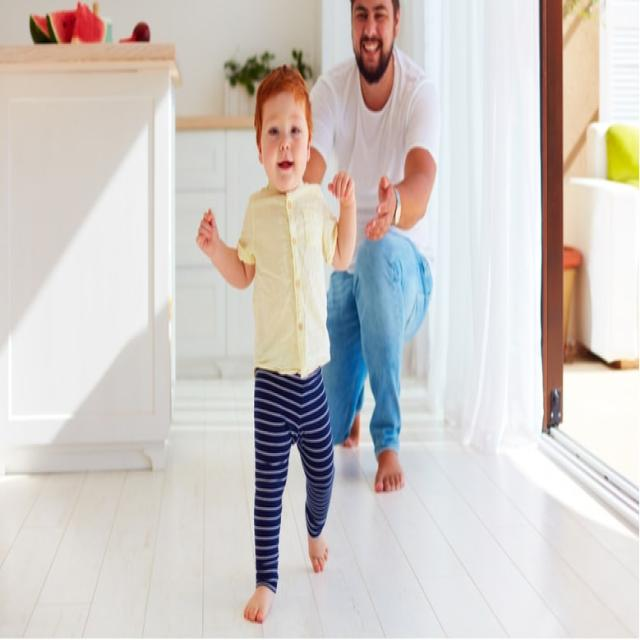Person: (195, 65, 356, 628), (309, 0, 436, 491)
